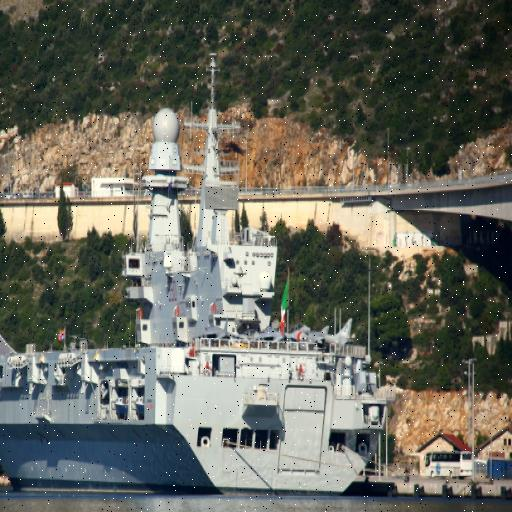Portanaves: (1, 53, 399, 496)
